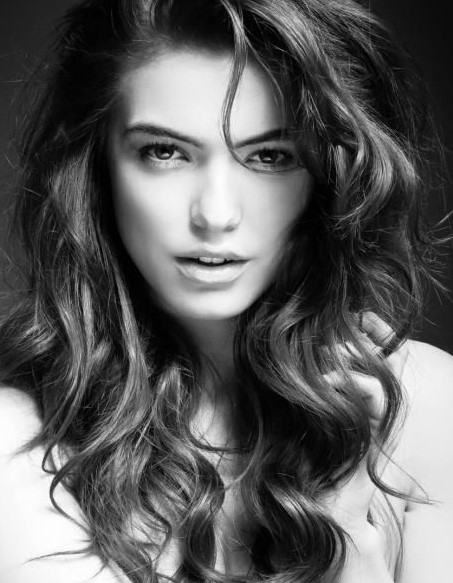face_no_mask: (78, 9, 347, 334)
